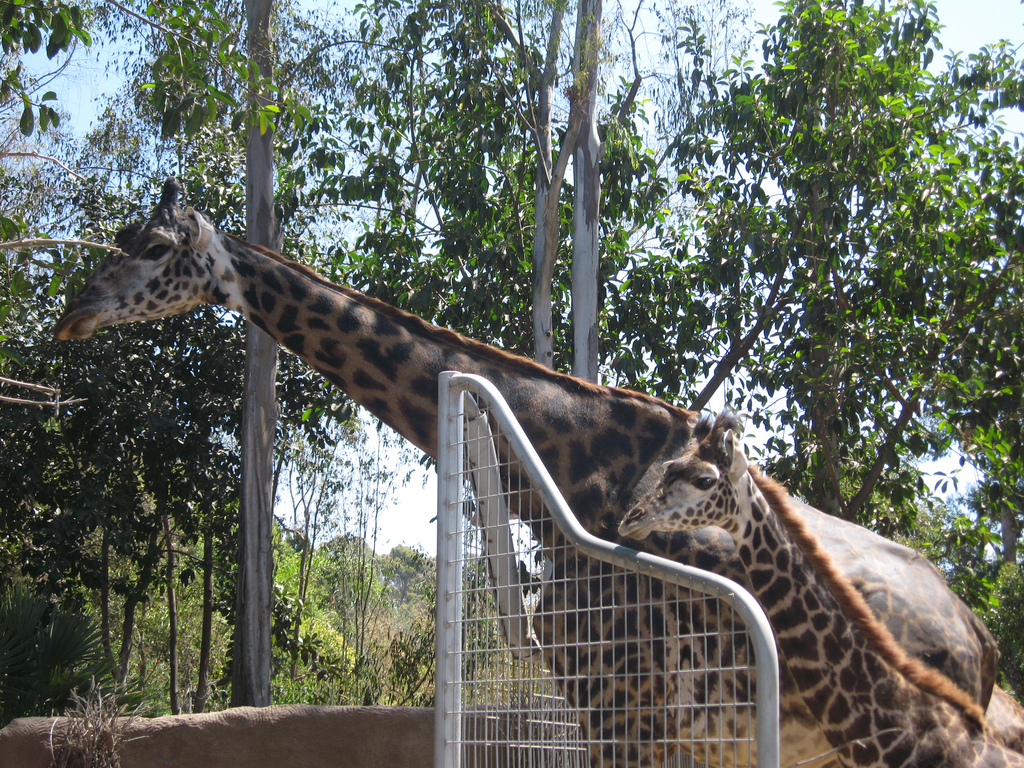giraffe: (75, 205, 975, 662), (620, 427, 971, 762)
